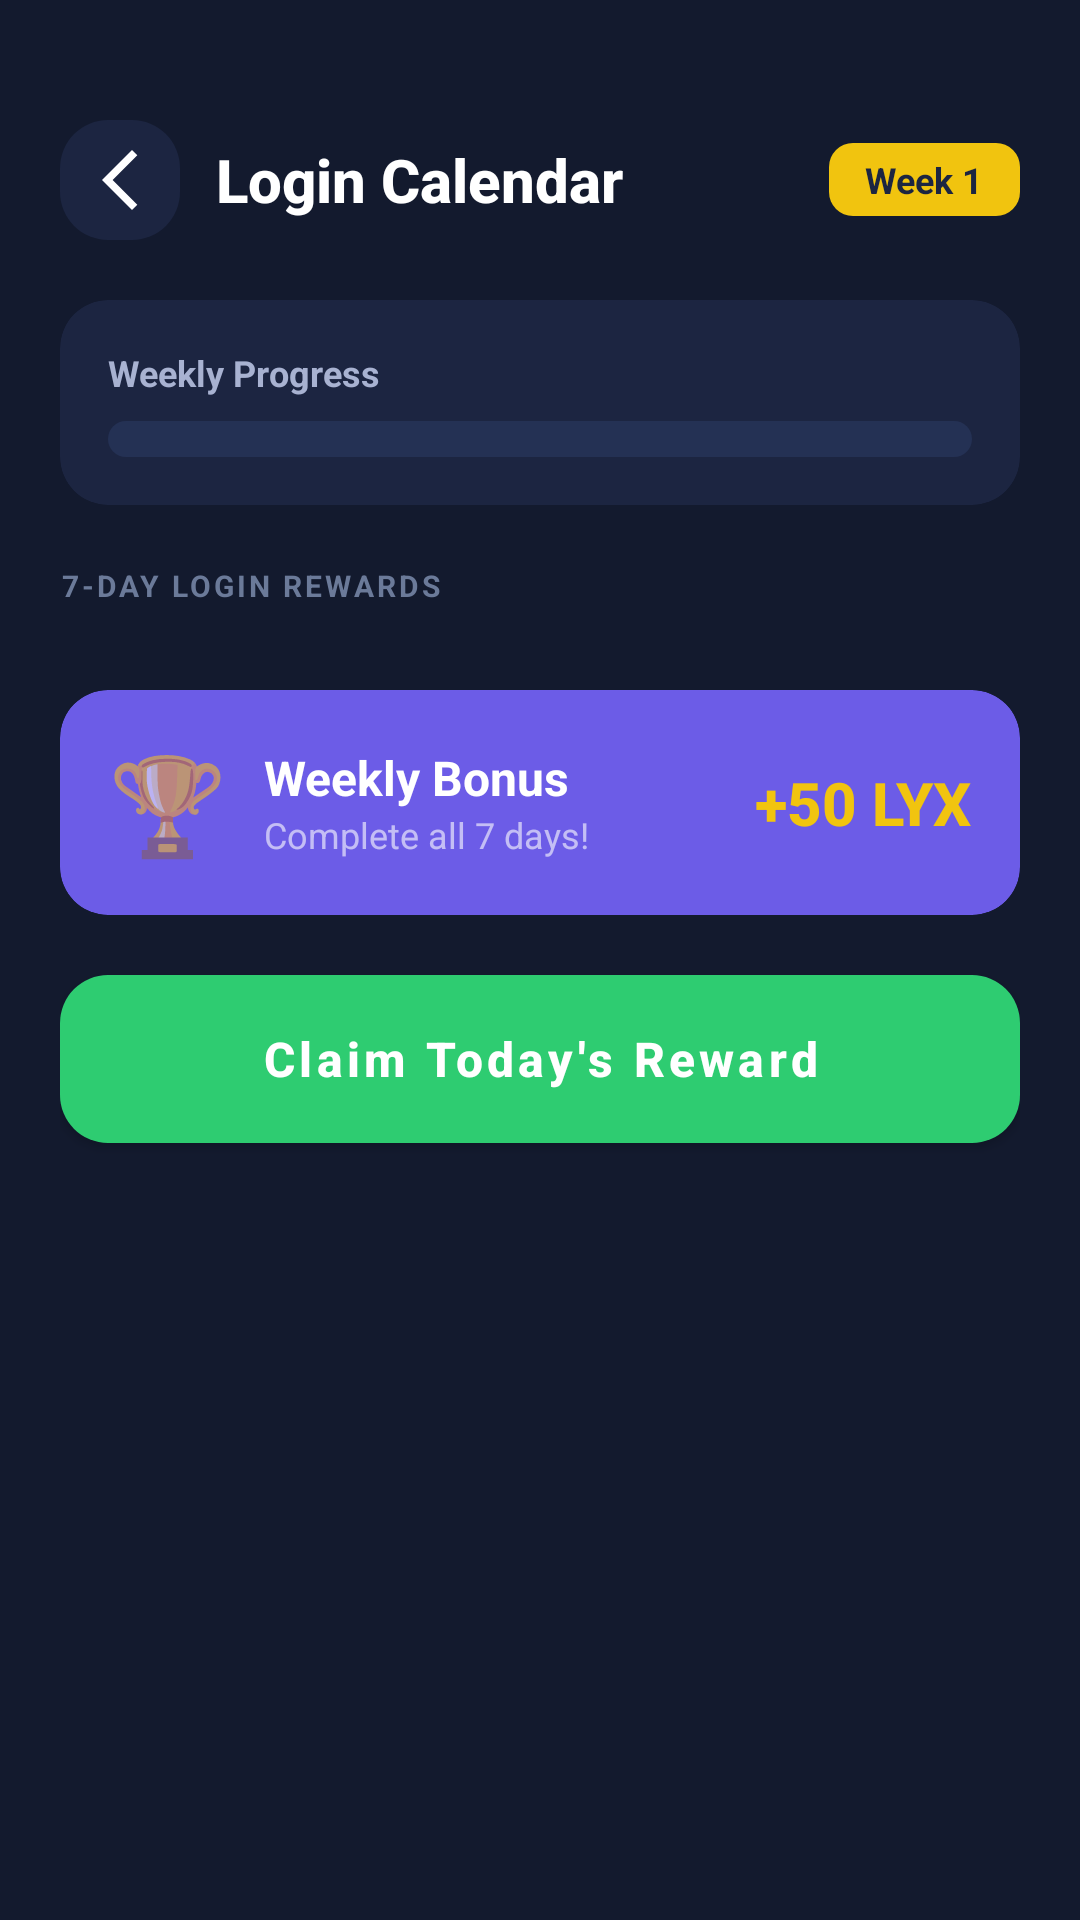

Where icons sit on this 1080*1920 app screen, as (x1=x1, y1=y1, x2=x2, y2=y2):
Back: (x1=60, y1=120, x2=180, y2=240)
